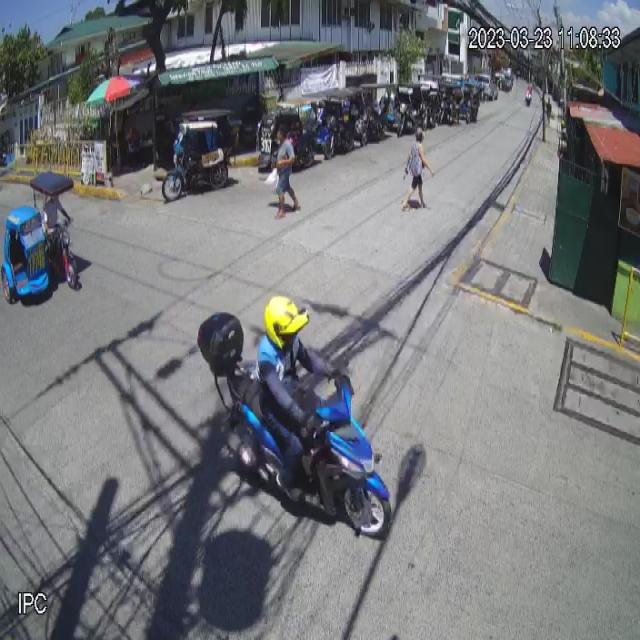Motorcycle: (195, 295, 392, 538)
Tricycle: (2, 166, 84, 303)
